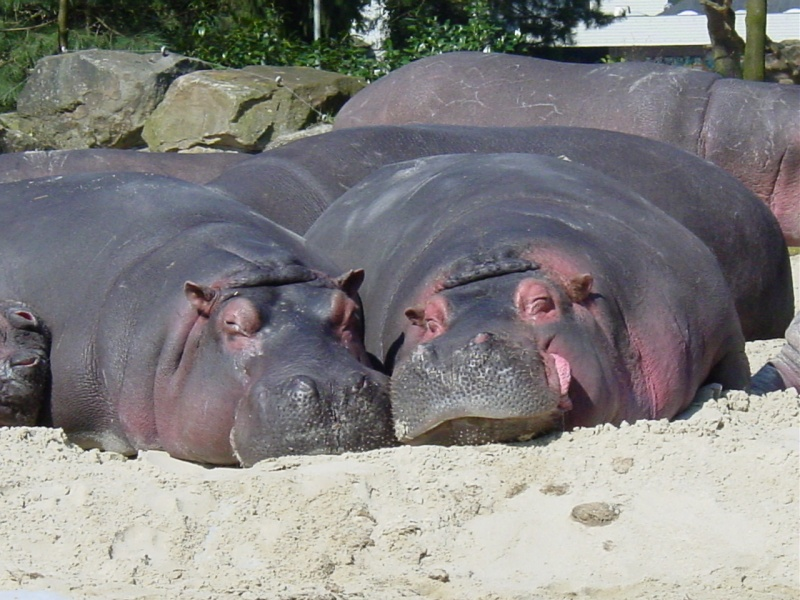hipopotamo: (0, 151, 410, 488), (368, 138, 755, 465)
